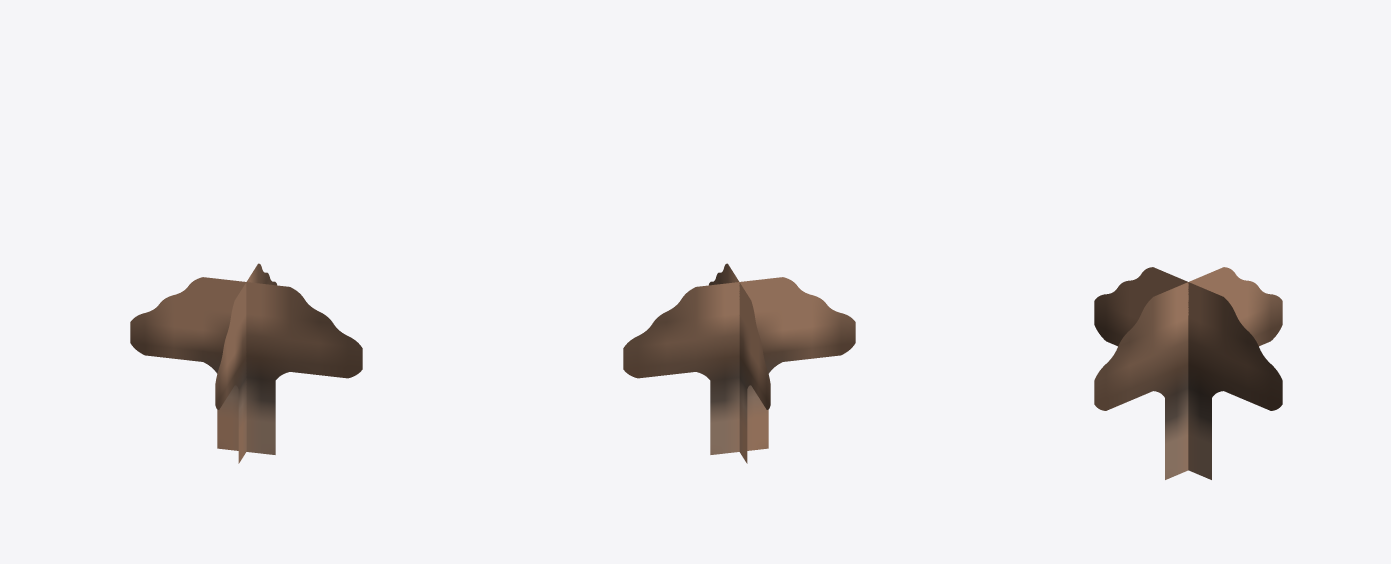
Rendered from Mushroom.fbx.
The picture shows the model from 3 angles, left to right: view 1: azimuth 30°, elevation 25°; view 2: azimuth 150°, elevation 25°; view 3: azimuth 270°, elevation 25°; orthographic projection. The views are drawn at different scales.
Visible parts, largest first — view 1: Mushroom; view 2: Mushroom; view 3: Mushroom.
Part boxes in pixels (x1,y1,x2,y2): Mushroom: (130, 263, 362, 463); Mushroom: (623, 263, 855, 463); Mushroom: (1094, 267, 1282, 479).
Bounding box in the file's own units: 6.61 × 7.29 × 6.61.
